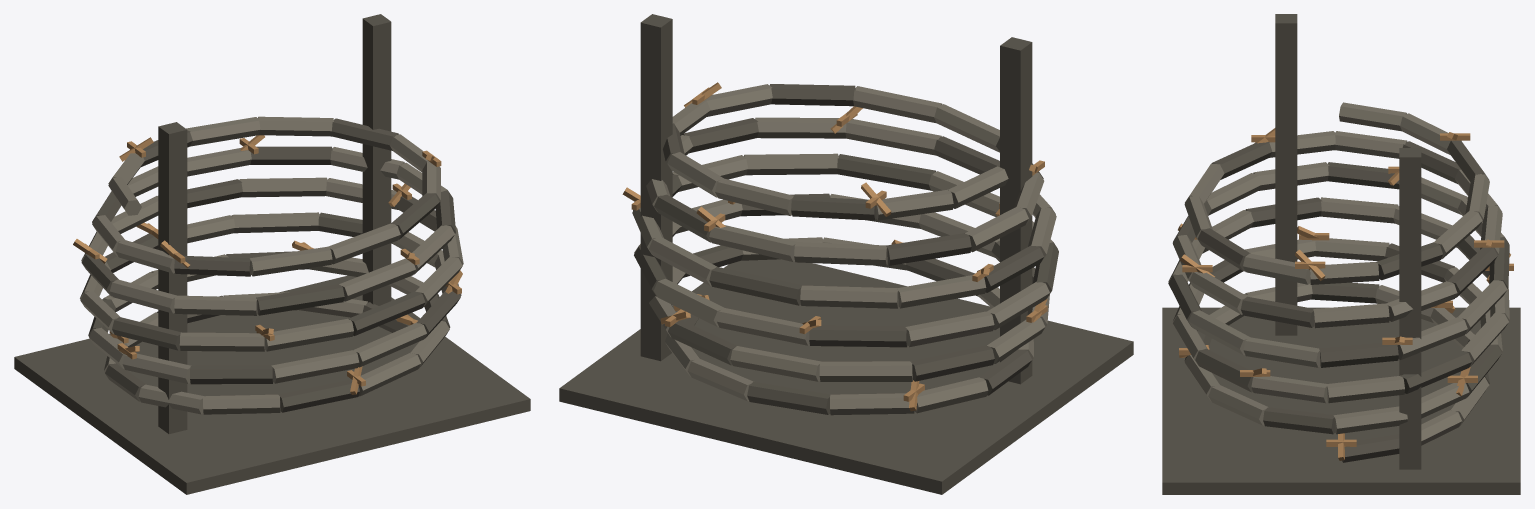
File: barbed_wire.glb
3 renders of one model, left to right at view 1: azimuth 30°, elevation 25°; view 2: azimuth 150°, elevation 25°; view 3: azimuth 270°, elevation 25°, orthographic. The views are drawn at different scales.
Visible parts, largest first — view 1: CoilPad, Stake_r, Stake_l, Coil_48, Coil_22, Coil_41, Coil_35, Coil_28, Coil_34, Coil_21, Coil_47, Coil_61 (+43 smaller); view 2: CoilPad, Stake_r, Stake_l, Coil_43, Coil_30, Coil_36, Coil_56, Coil_17, Coil_42, Coil_49, Coil_37, Coil_29 (+42 smaller); view 3: CoilPad, Stake_l, Stake_r, Coil_26, Coil_39, Coil_38, Coil_52, Coil_32, Coil_25, Coil_51, Coil_12, Coil_13 (+51 smaller).
Part boxes in pixels (box(x1,y1,x2,y2)): CoilPad: box(14, 275, 530, 494); Stake_r: box(362, 14, 391, 305); Stake_l: box(158, 122, 187, 433); Coil_48: box(256, 284, 344, 315); Coil_22: box(271, 350, 359, 383); Coil_41: box(239, 177, 327, 197); Coil_35: box(265, 318, 353, 351); Coil_28: box(231, 212, 319, 233); Coil_34: box(179, 332, 265, 351); Coil_21: box(190, 365, 273, 384); Coil_47: box(174, 295, 257, 315); Coil_61: box(250, 247, 332, 276); CoilPad: box(559, 259, 1133, 494); Stake_r: box(640, 14, 672, 361); Stake_l: box(1000, 37, 1032, 384); Coil_43: box(800, 285, 898, 308); Coil_30: box(809, 325, 907, 347); Coil_36: box(837, 154, 935, 190); Coil_56: box(794, 242, 887, 265); Coil_17: box(819, 361, 912, 381); Coil_42: box(709, 267, 802, 305); Coil_49: box(845, 119, 941, 155); Coil_37: box(744, 153, 838, 175); Coil_29: box(717, 308, 809, 345); CoilPad: box(1162, 307, 1520, 494); Stake_l: box(1275, 14, 1297, 335); Stake_r: box(1399, 148, 1421, 469); Coil_26: box(1326, 375, 1404, 403); Coil_39: box(1319, 343, 1398, 367); Coil_38: box(1243, 337, 1320, 367); Coil_52: box(1313, 303, 1389, 328); Coil_32: box(1320, 197, 1398, 223); Coil_25: box(1251, 376, 1327, 403); Coil_51: box(1240, 296, 1314, 327); Coil_12: box(1263, 407, 1335, 434); Coil_13: box(1333, 406, 1407, 434).
Bounding box in the file's own units: 0.3026 × 0.26 × 0.26.
